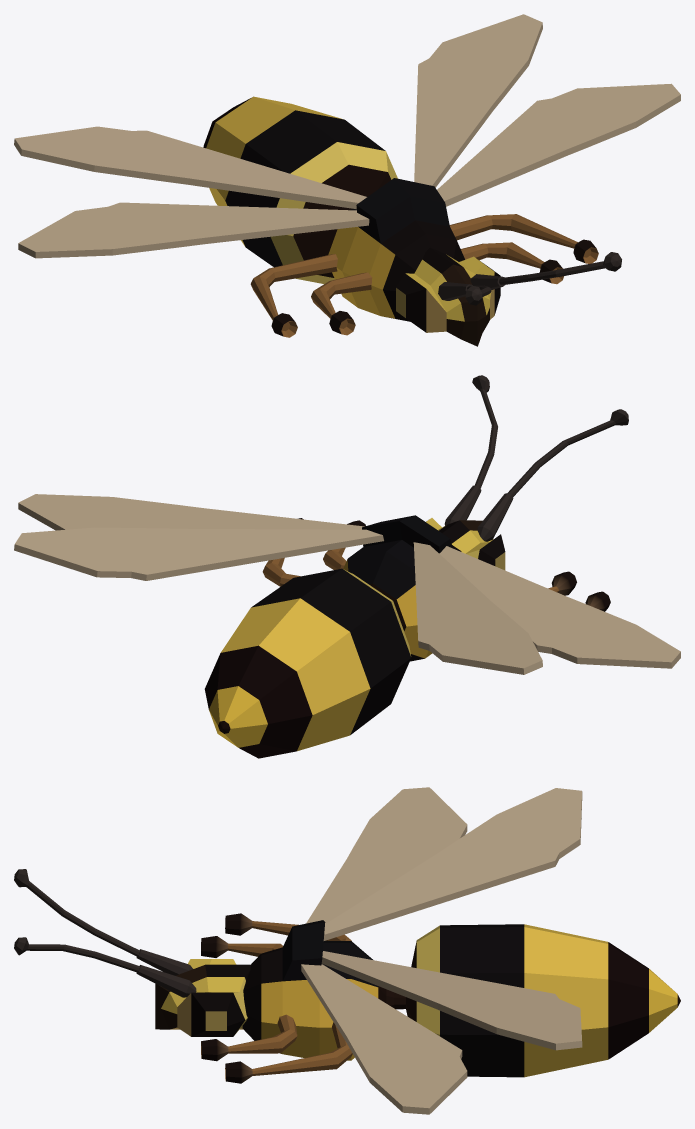
Rendered from Insect.fbx.
The picture shows the model from 3 angles, top to bottom: view 1: azimuth 30°, elevation 25°; view 2: azimuth 150°, elevation 25°; view 3: azimuth 270°, elevation 25°; orthographic projection.
Parts seen in each view (by area): view 1: Chefão; view 2: Chefão; view 3: Chefão.
Part boxes in pixels (x1=…): Chefão: x1=14, y1=14, x2=680, y2=346; Chefão: x1=14, y1=375, x2=680, y2=758; Chefão: x1=14, y1=787, x2=680, y2=1114.
Bounding box in the file's own units: 17475 × 4328 × 15346.
